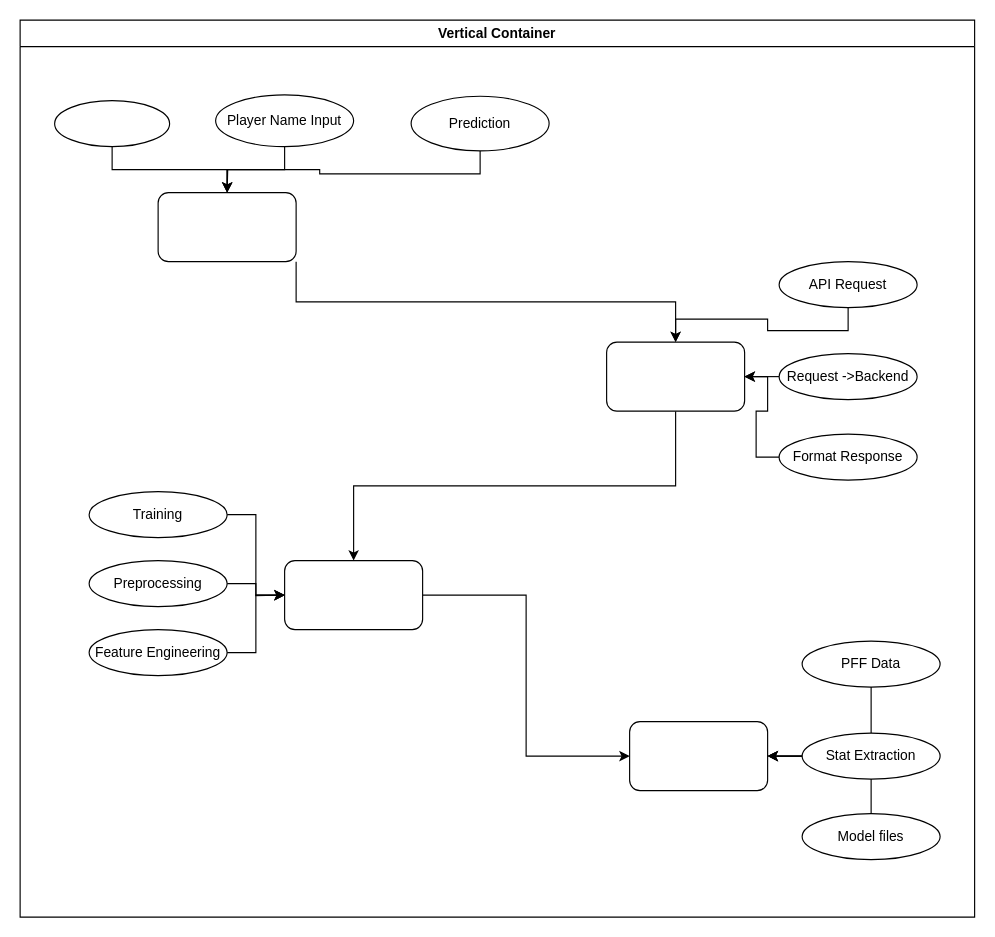
This 995x937 diagram has some shape labels left out. Each missing label, with the centre of its shape:
"Backend API" belongs at point (675, 376).
"Data Pipeline" belongs at point (698, 755).
"Front End(UI)" belongs at point (226, 226).
"Machine Learning Algorithm(Python)" belongs at point (353, 594).
"Welcome Page" belongs at point (111, 123).
